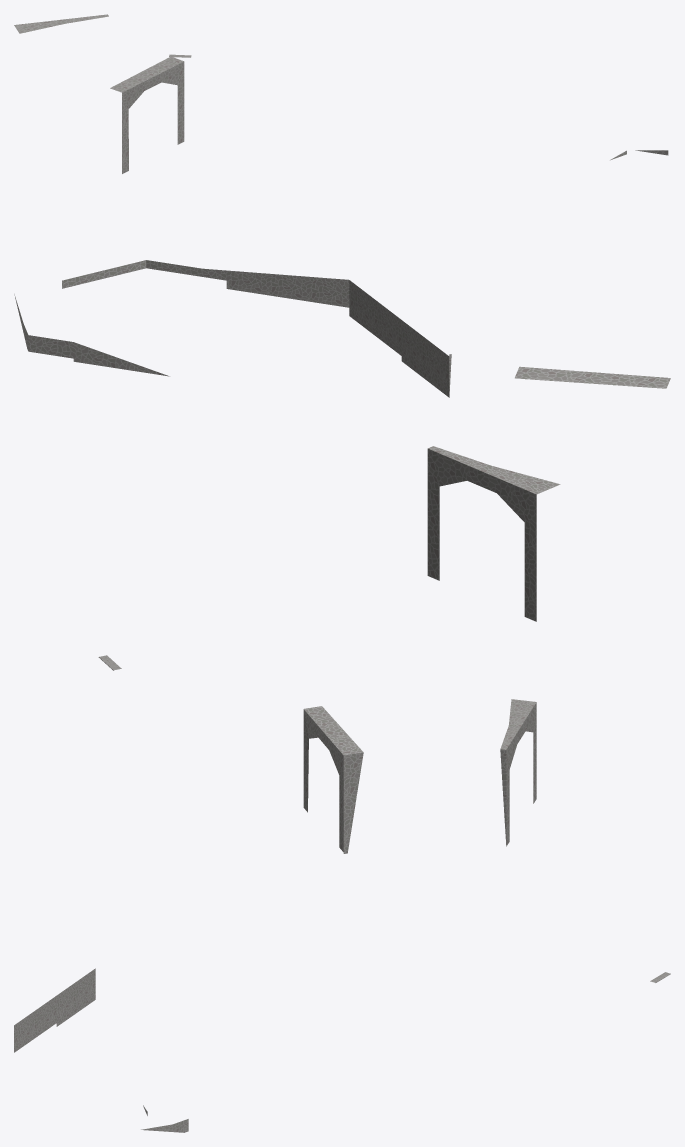
The model's file is kd_stage_135ebf_2_17.glb.
The picture shows the model from 3 angles, top to bottom: view 1: azimuth 30°, elevation 25°; view 2: azimuth 150°, elevation 25°; view 3: azimuth 270°, elevation 25°; orthographic projection. The views are drawn at different scales.
Parts seen in each view (by area): view 1: kd_stage_135ebf_2_17; view 2: kd_stage_135ebf_2_17; view 3: kd_stage_135ebf_2_17.
Boxes of the visible parts, <box> form: kd_stage_135ebf_2_17: <box>14,14,668,173</box>; kd_stage_135ebf_2_17: <box>14,260,670,670</box>; kd_stage_135ebf_2_17: <box>14,699,670,1132</box>.
Bounding box in the file's own units: 79.91 × 20 × 75.46.
Materials: 1 (1 with a texture image).
